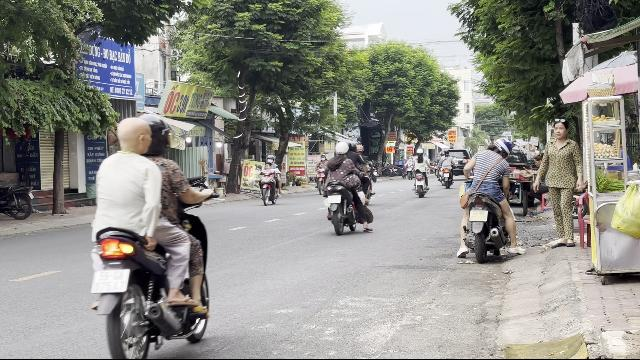helmet: (140, 111, 170, 157), (489, 136, 511, 158)
licenseplate: (92, 269, 128, 291), (468, 210, 486, 220)
motorcyclist: (82, 112, 216, 356), (454, 130, 520, 262)
nohelmet: (114, 116, 152, 156)
